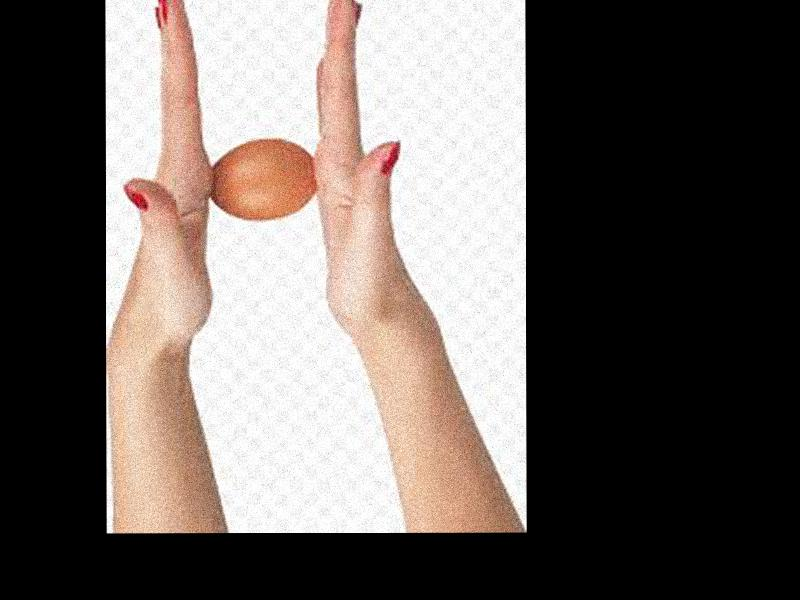Eggs: (211, 141, 317, 220)
